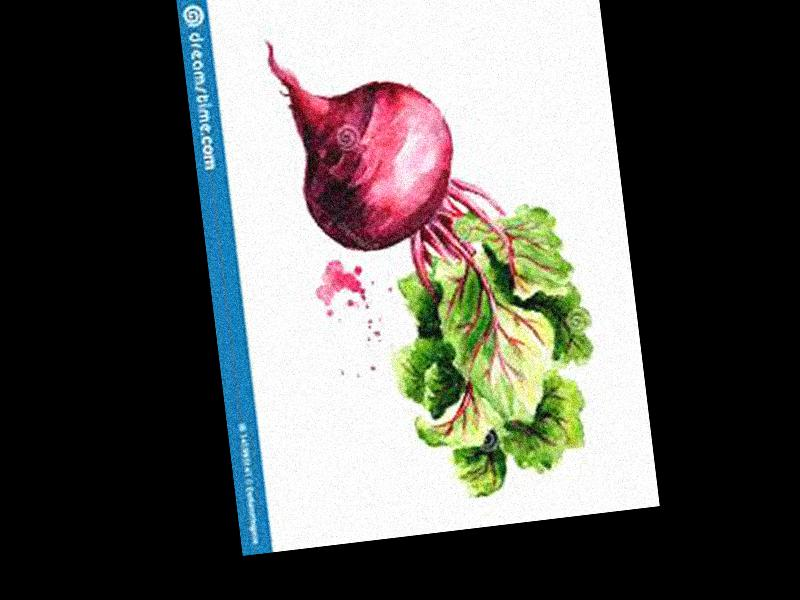Beet: (265, 9, 611, 518)
